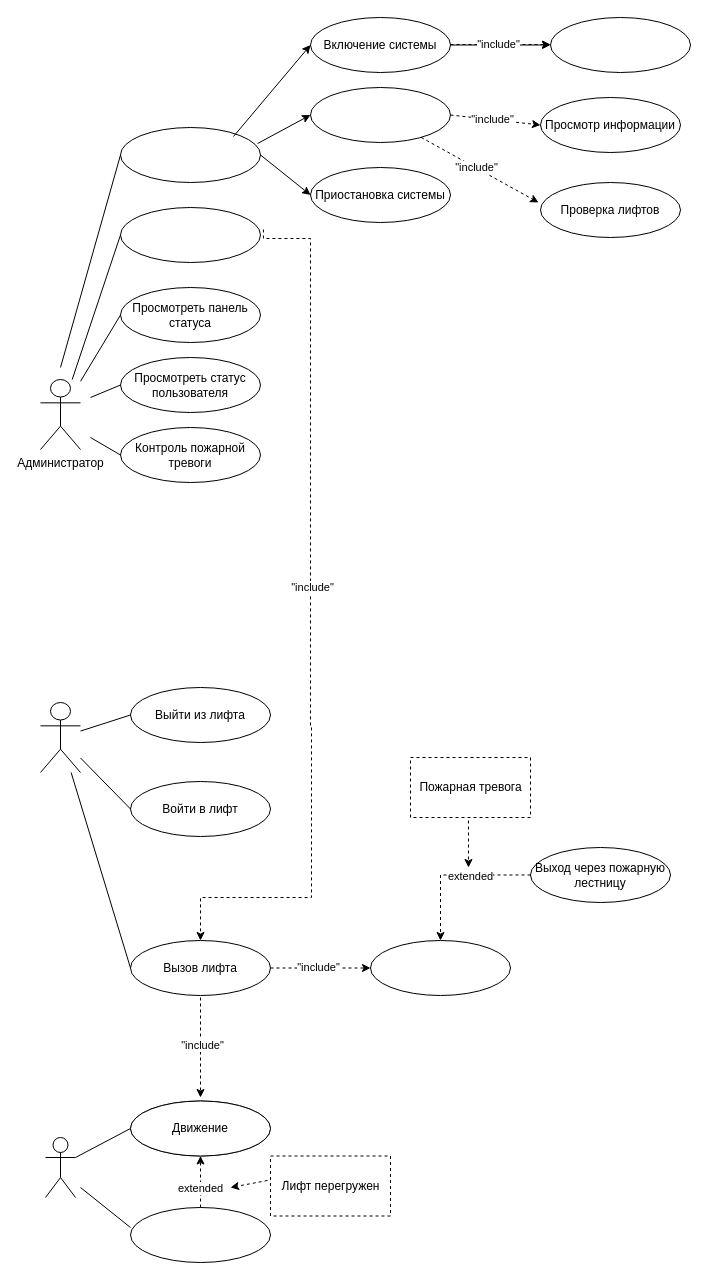
Image size: 708x1280. Some labels were removed from this diagram. The box of each missing label's shape, as (x1, y1, x2, y2) in pixels:
Ввод параметров системы: (550, 16, 690, 72)
Выключение системы: (310, 86, 450, 142)
Лифт: (44, 1136, 76, 1198)
Моделирование процесса управления: (120, 126, 260, 182)
Ожидание: (130, 1206, 270, 1262)
Ожидание лифта: (370, 940, 510, 996)
Пользователь: (40, 702, 80, 772)
Создание пользователя: (120, 206, 260, 262)
